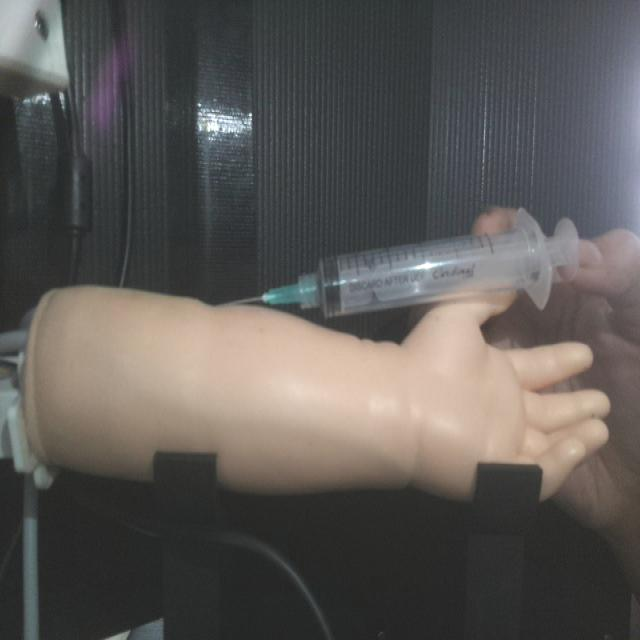Below 15 degrees: (228, 204, 582, 320)
